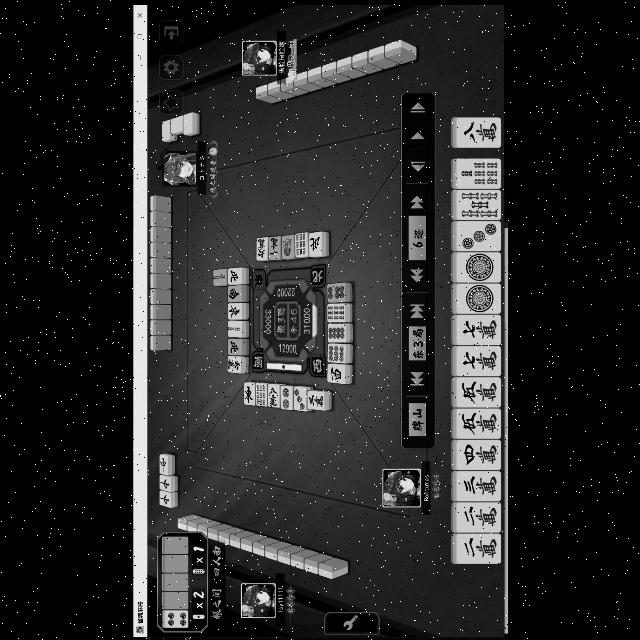1m: (266, 232, 280, 260)
1p: (448, 282, 504, 314), (450, 250, 500, 282)
1s: (282, 234, 292, 258)
2m: (451, 530, 504, 568), (448, 504, 502, 532)
2p: (280, 383, 292, 412)
2s: (222, 321, 248, 337), (210, 268, 230, 284)
3m: (450, 472, 502, 501), (304, 388, 328, 412)
3p: (451, 222, 503, 248), (292, 383, 308, 415)
4m: (451, 436, 503, 472)
4p: (160, 608, 192, 630)
5m: (444, 407, 506, 439), (446, 377, 504, 407)
5s: (447, 188, 505, 222)
6m: (255, 233, 268, 261), (224, 356, 243, 374)
6p: (322, 280, 354, 302)
7m: (444, 312, 504, 346), (446, 346, 506, 376)
7s: (446, 157, 504, 187)
8m: (448, 114, 502, 146), (267, 382, 279, 412)
8p: (324, 324, 354, 342)
9p: (324, 341, 354, 363)
9s: (324, 302, 354, 326), (250, 381, 268, 409), (292, 231, 306, 261)
chun: (156, 452, 172, 476), (158, 489, 176, 506), (157, 476, 177, 490)
haku: (180, 109, 198, 137), (160, 117, 172, 143), (168, 116, 182, 136)
nan: (219, 284, 247, 302)
pe: (220, 335, 248, 355), (308, 230, 326, 256), (223, 266, 247, 284)
sha: (324, 364, 352, 386)
tou: (224, 300, 252, 322), (239, 382, 257, 408)
